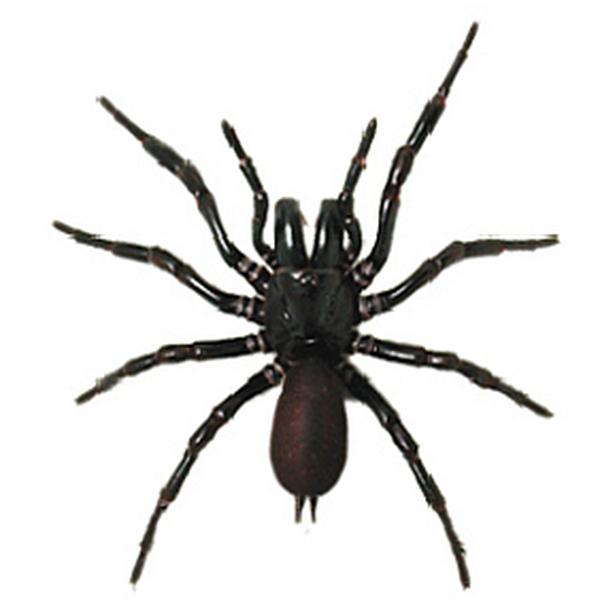Funnel Web Spider: (67, 26, 556, 576)
